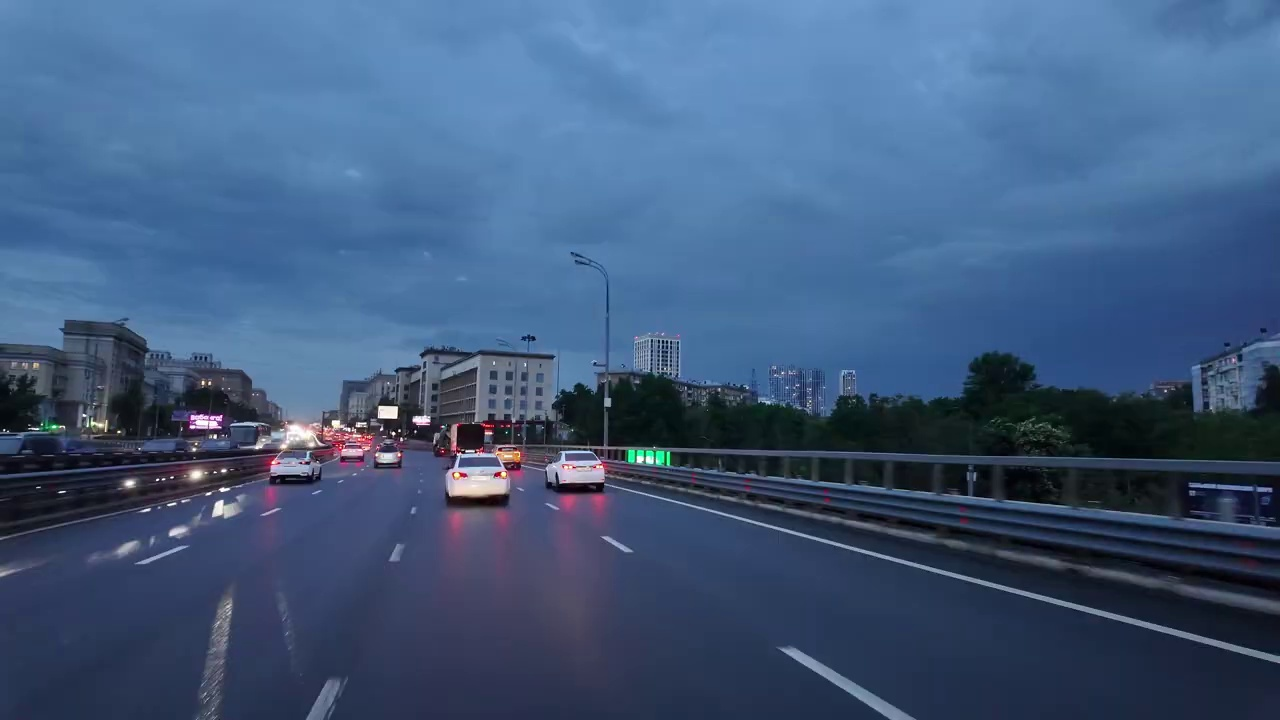apagada: (566, 247, 593, 272)
